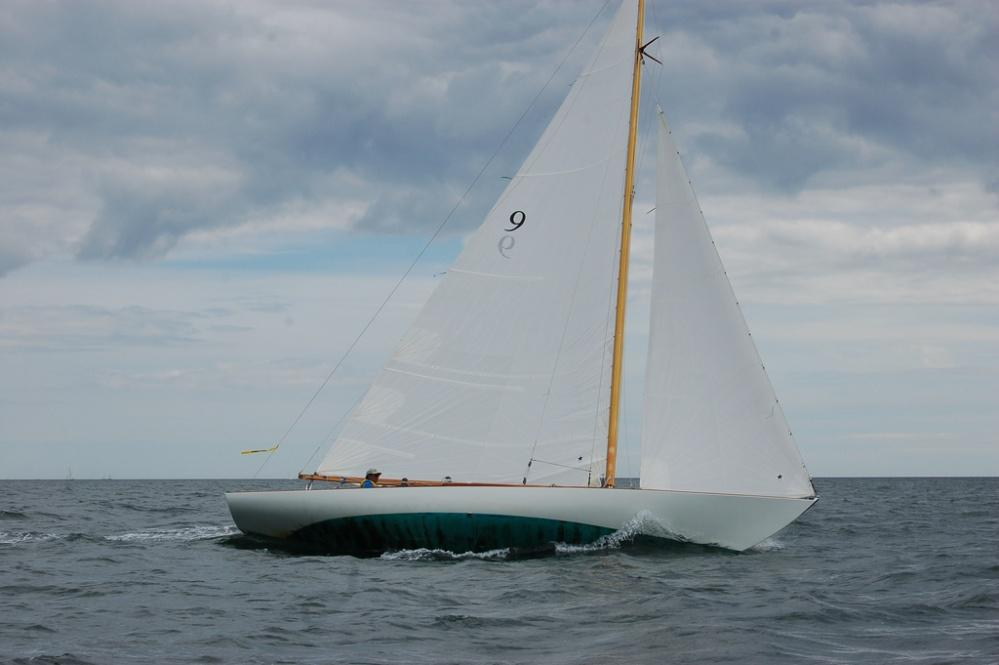Ship: (222, 1, 817, 560)
